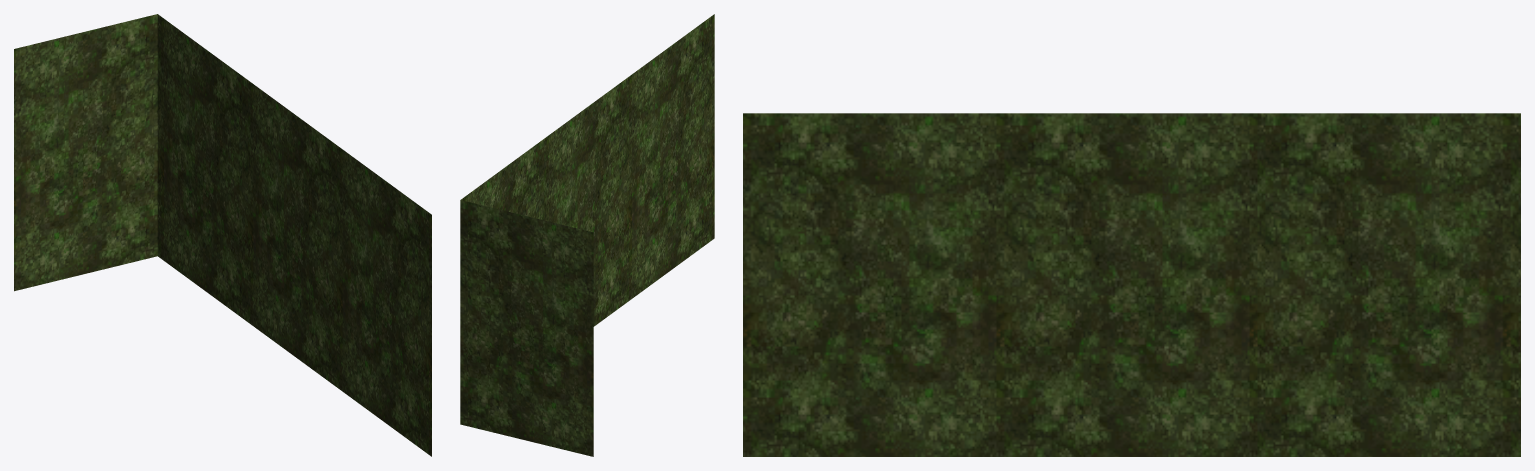
The model's file is OVERHILL_A_01_LINE195.fbx.
3 views of the same model, side by side, from view 1: azimuth 30°, elevation 25°; view 2: azimuth 150°, elevation 25°; view 3: azimuth 270°, elevation 25° (orthographic). The views are drawn at different scales.
Parts seen in each view (by area): view 1: OVERHILL_A_01_LINE195; view 2: OVERHILL_A_01_LINE195; view 3: OVERHILL_A_01_LINE195.
Boxes of the visible parts, box(x1,y1,x2,y2) form: OVERHILL_A_01_LINE195: box(14, 14, 431, 456); OVERHILL_A_01_LINE195: box(460, 14, 714, 456); OVERHILL_A_01_LINE195: box(743, 113, 1520, 456).
Bounding box in the file's own units: 24234 × 39068 × 80148.
Materials: 1 (1 with a texture image).
